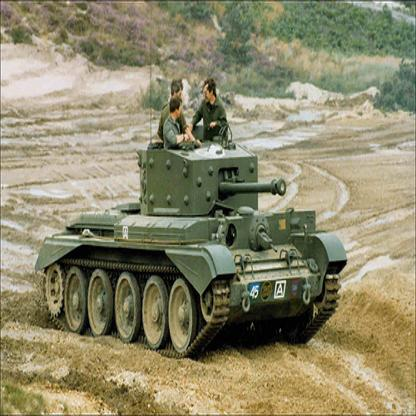Tank: (32, 114, 365, 367)
